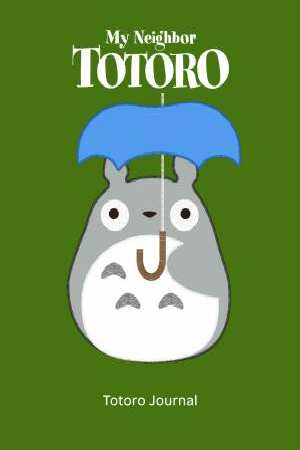Totoro: (64, 145, 234, 366)
